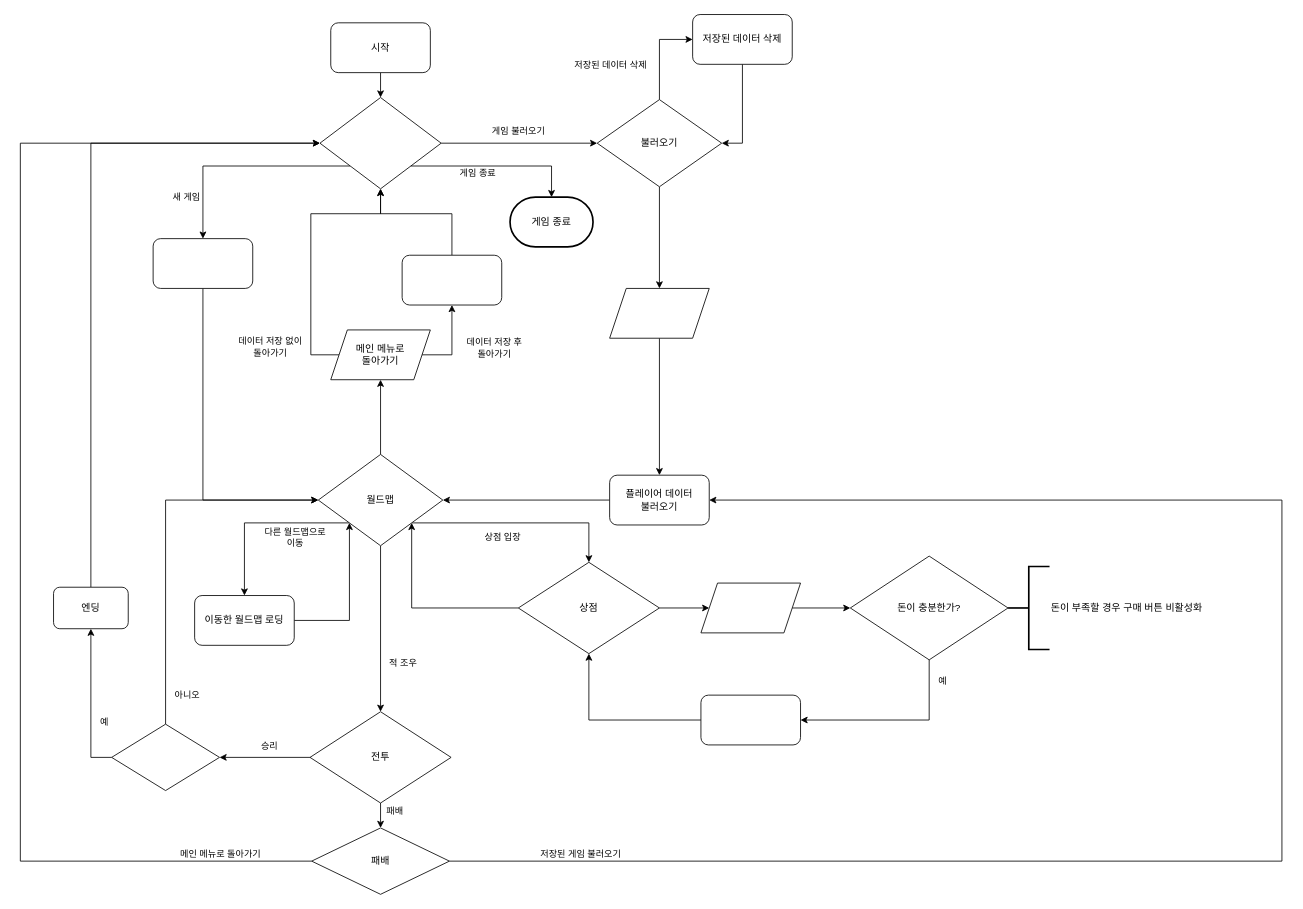
This 1303x909 diagram has some shape labels left out. Here are the shapes that lost their labels. From the top down, the centre of each, then its label:
At pixel 380 143: "메인 메뉴".
At pixel 202 263: "플레이어 데이터 생성".
At pixel 451 279: "플레이어 데이터 저장".
At pixel 659 313: "불러올 플레이어 데이터 선택".
At pixel 750 607: "아이템 구매".
At pixel 750 719: "돈 차감 후 아이템 전달".
At pixel 165 757: "보스 몬스터인가?".
